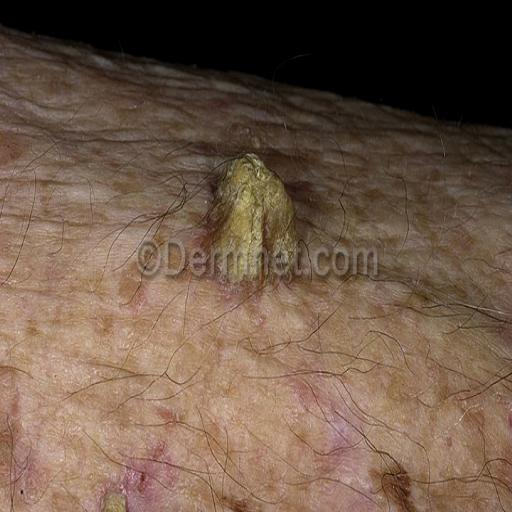Skin_Lesion: (208, 152, 296, 286), (367, 450, 415, 510), (124, 451, 170, 505)
